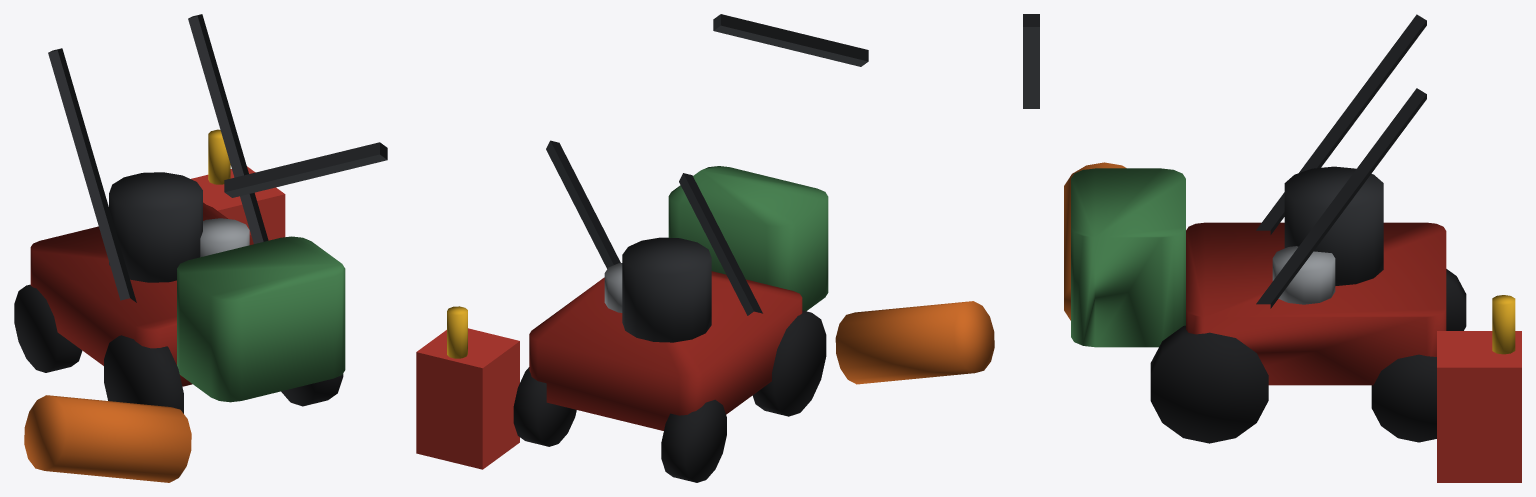
The model's file is garage_mower.glb.
The picture shows the model from 3 angles, left to right: view 1: azimuth 30°, elevation 25°; view 2: azimuth 150°, elevation 25°; view 3: azimuth 270°, elevation 25°; orthographic projection. The views are drawn at different scales.
Parts seen in each view (by area): view 1: root; view 2: root; view 3: root.
Part boxes in pixels (x1=…): root: x1=14, y1=14, x2=387, y2=482; root: x1=416, y1=14, x2=994, y2=482; root: x1=1023, y1=14, x2=1521, y2=482.
Size of the model in its own units: 1.27 by 0.9481 by 1.26.
